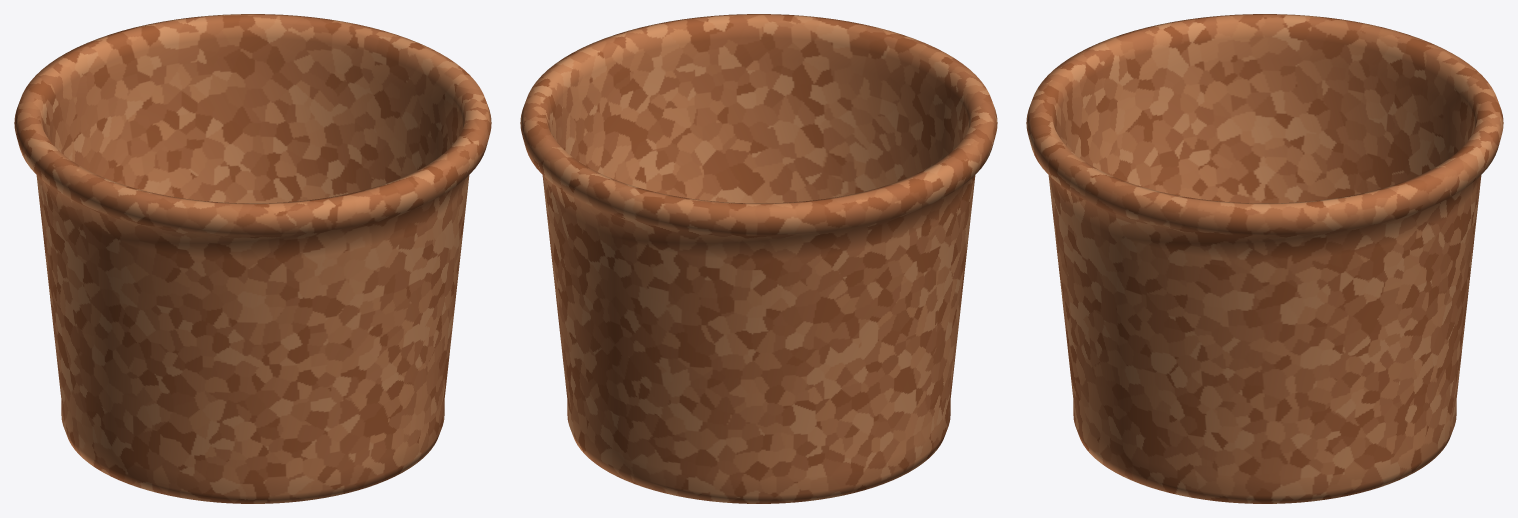
Rendered from copper-cap.fbx.
3 renders of one model, left to right at view 1: azimuth 30°, elevation 25°; view 2: azimuth 150°, elevation 25°; view 3: azimuth 270°, elevation 25°, orthographic.
Visible parts, largest first — view 1: copper-cap; view 2: copper-cap; view 3: copper-cap.
Boxes of the visible parts, left/top/right/bottom form: copper-cap: left=14, top=14, right=491, bottom=503; copper-cap: left=520, top=14, right=997, bottom=503; copper-cap: left=1026, top=14, right=1503, bottom=503.
Bounding box in the file's own units: 13.2 × 9.8 × 13.2.
Materials: 1 (1 with a texture image).
